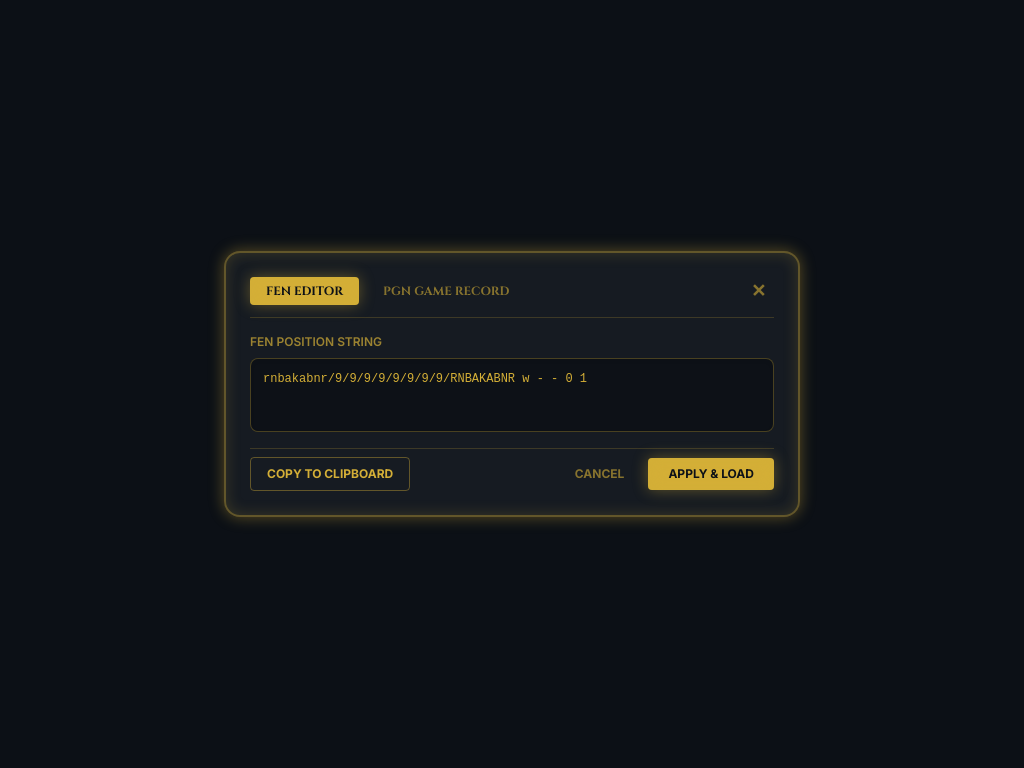
Test: Empiric Milestone 4 Stress Test Suite › Modal Component State & Parser Integration Testing › copies text to clipboard when copy button clicked
This screenshot has width=1024, height=768.
Click the button "COPY TO CLIPBOARD" at (330, 474), box [250, 457, 410, 491]
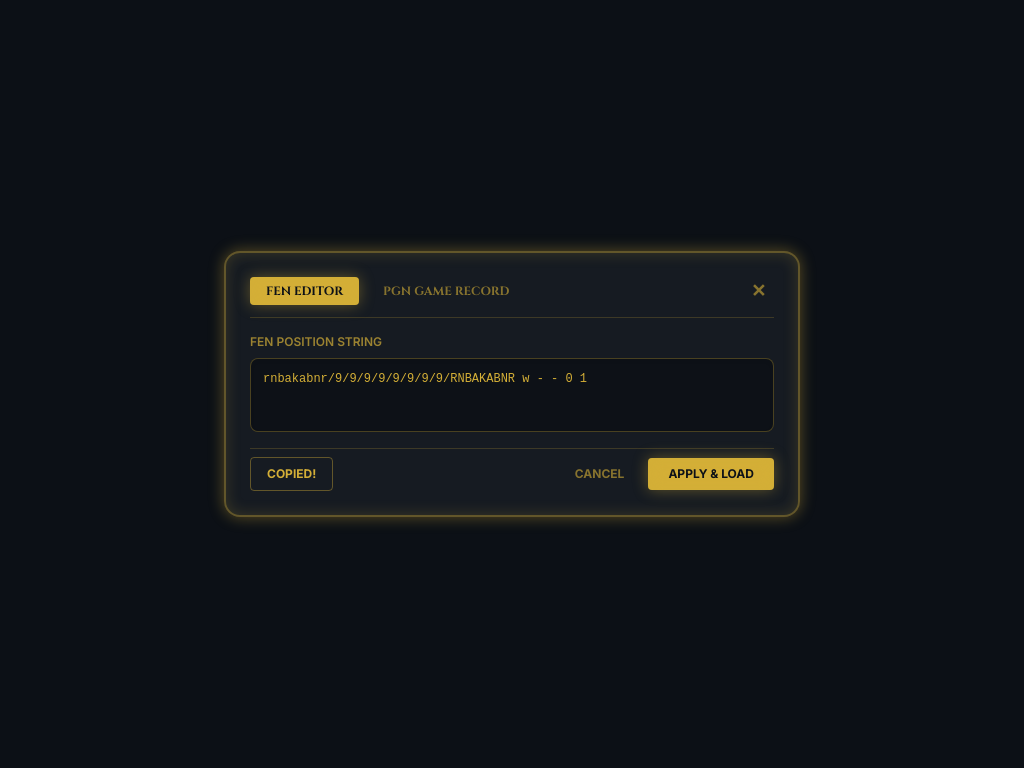
Now the button "COPIED!" is shown, box [250, 457, 333, 491]
